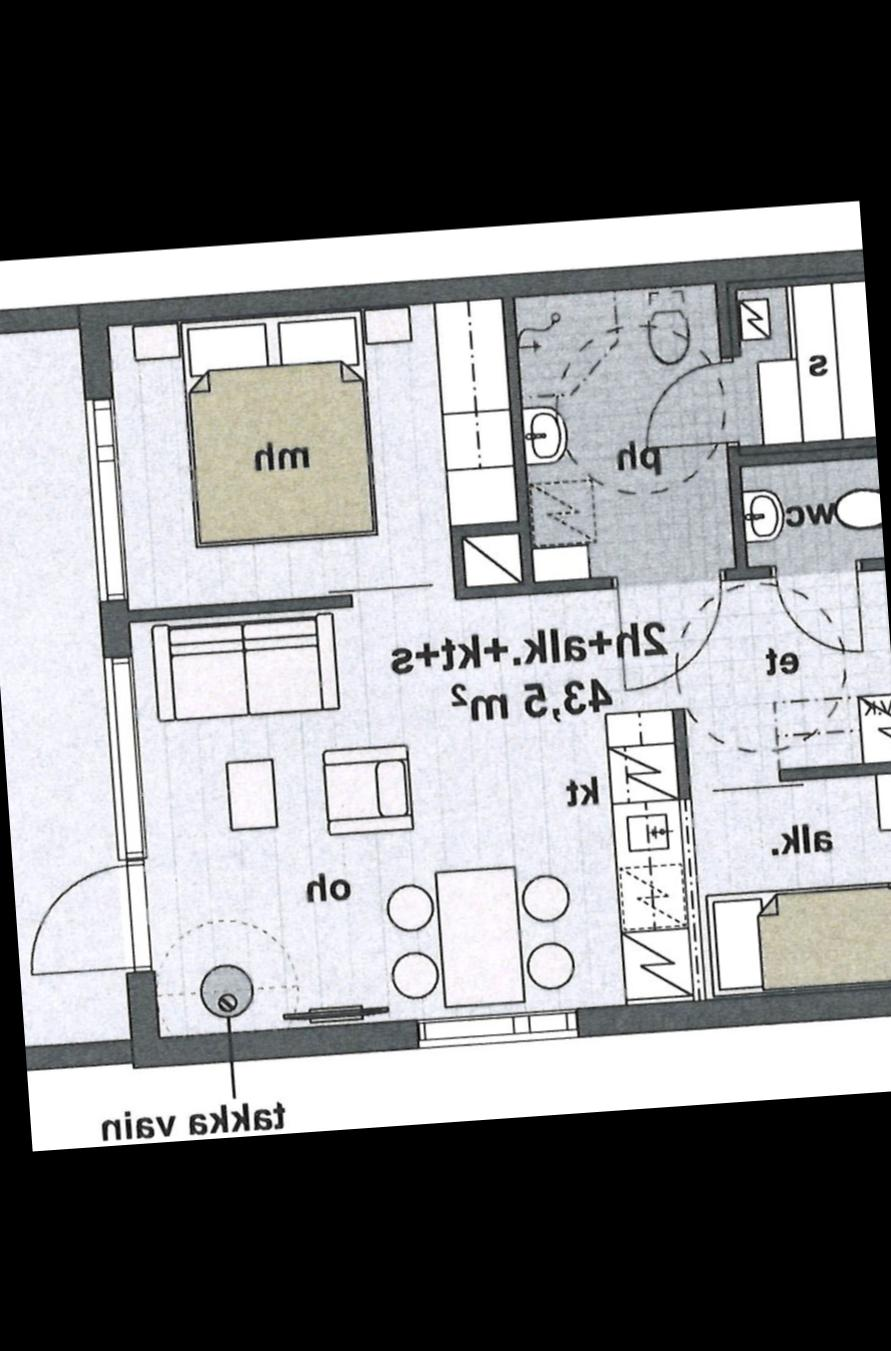door: (16, 860, 164, 982), (609, 564, 730, 696), (635, 352, 745, 459), (768, 552, 870, 664)
window: (94, 647, 158, 866), (72, 389, 134, 612), (402, 1000, 586, 1058)
